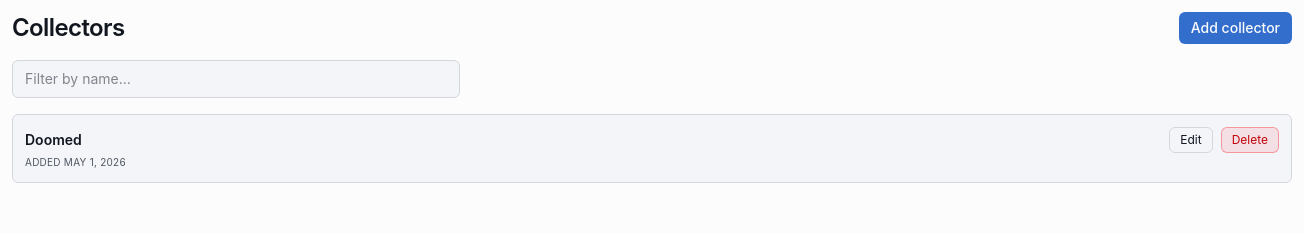
Collectors route › deletes a collector and refetches on success
Expected: the link "Doomed" is shown, [25,131,82,148]
Click the button with test id "delete-button". click: (1250, 140)
box: [1221,127,1279,153]
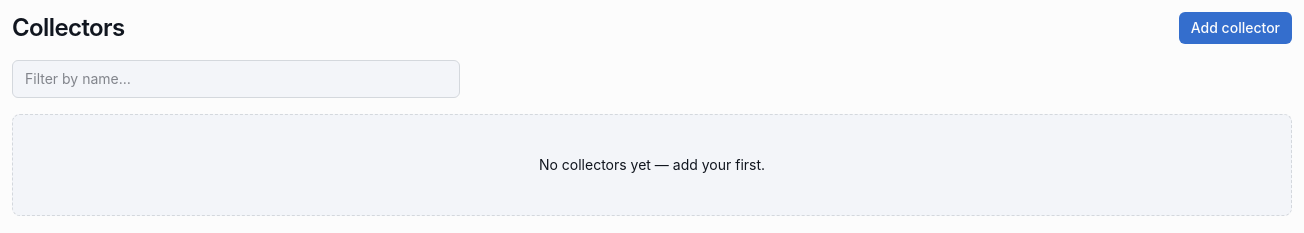
Now the element with test id "empty" is shown, box [12,114,1292,216]
